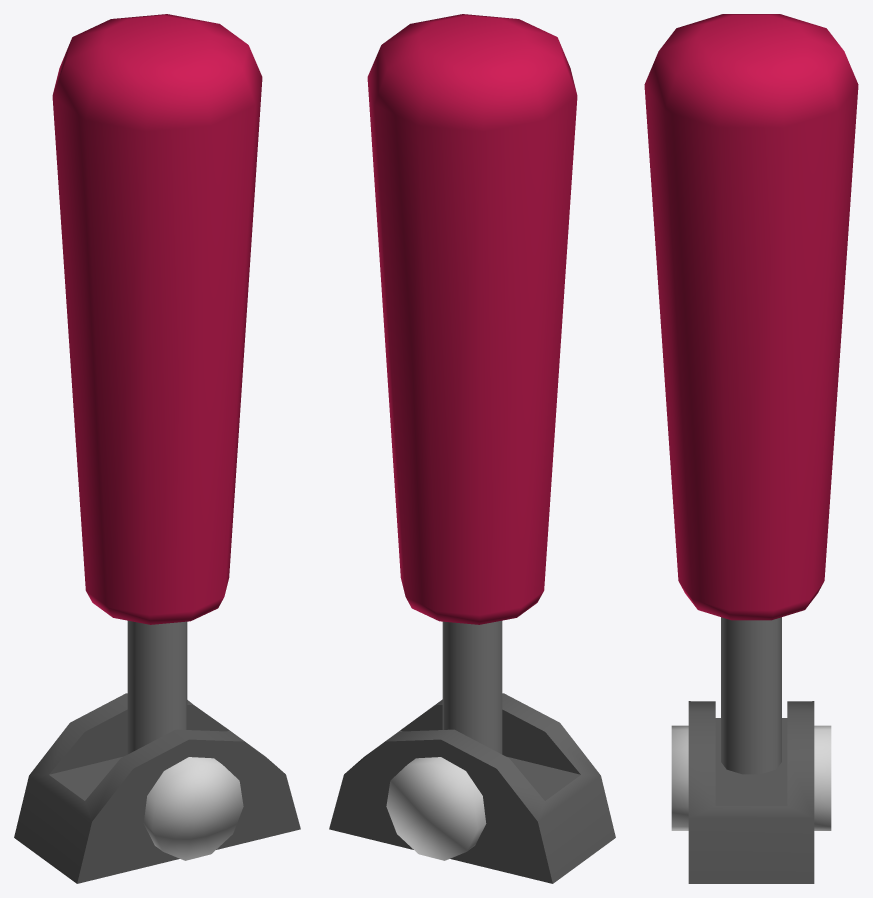
File: obstacle15.fbx
The picture shows the model from 3 angles, left to right: view 1: azimuth 30°, elevation 25°; view 2: azimuth 150°, elevation 25°; view 3: azimuth 270°, elevation 25°; orthographic projection.
Parts seen in each view (by area): view 1: cylinder, cylinder4; view 2: cylinder, cylinder4; view 3: cylinder, cylinder4.
Part boxes in pixels (left/top/right/bottom): cylinder: left=52, top=14, right=262, bottom=754; cylinder4: left=14, top=693, right=300, bottom=883; cylinder: left=367, top=14, right=577, bottom=754; cylinder4: left=329, top=693, right=615, bottom=883; cylinder: left=644, top=14, right=858, bottom=774; cylinder4: left=671, top=701, right=831, bottom=883.
Bounding box in the file's own units: 7.08 × 24.02 × 5.88.
